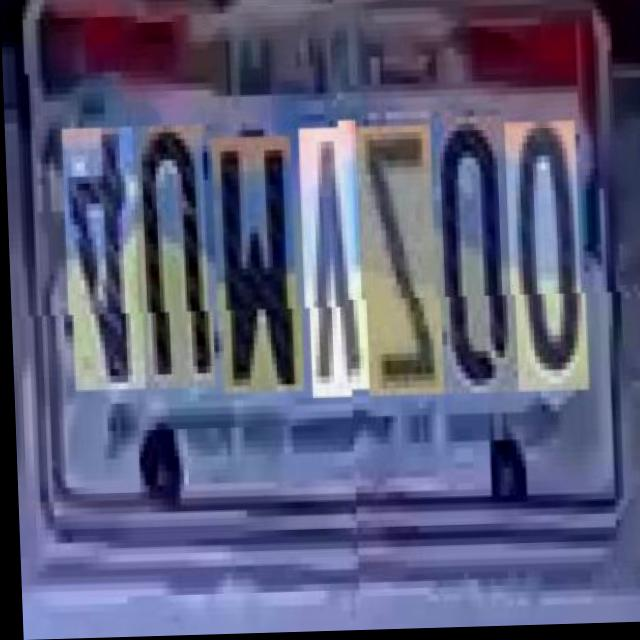0: (434, 119, 515, 397)
4: (65, 120, 143, 385)
m: (213, 130, 301, 388)
o: (507, 124, 586, 396)
u: (134, 118, 212, 383)
v: (301, 121, 367, 392)
z: (358, 128, 442, 399)
